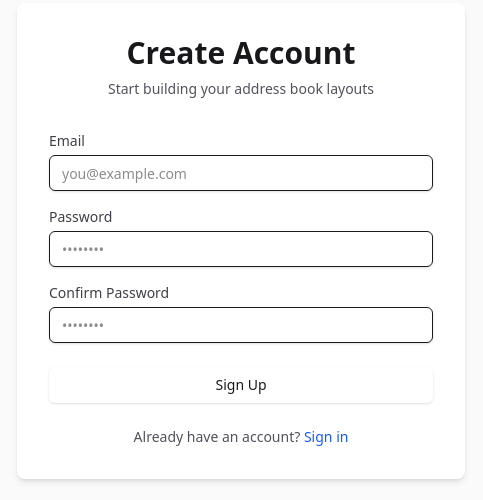
Test: SignupPage › should show loading state during signup
Type "test@example.com" into the field labelled "Email" at (241, 173), box [49,155,433,191]
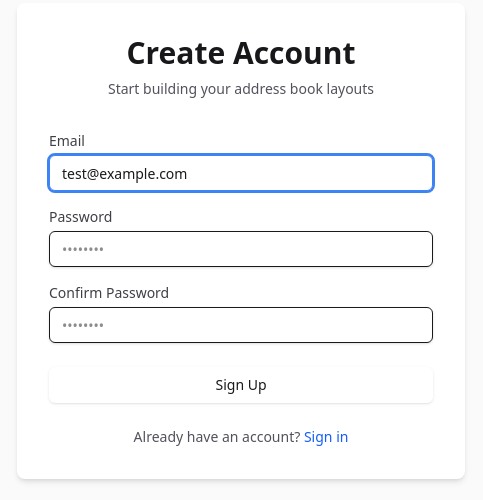
Type "password123" into the password field labelled "Password" at (241, 249), box [49,231,433,267]
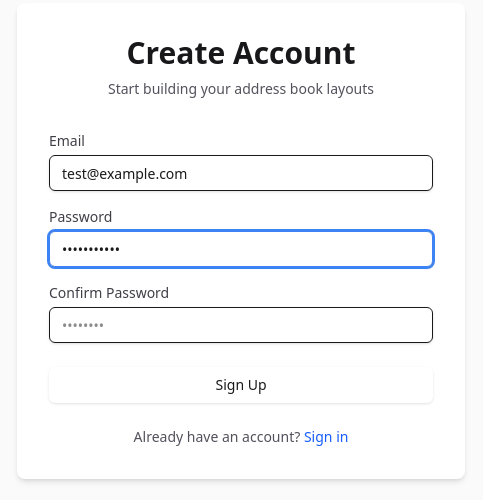
Type "password123" into the password field labelled "Confirm Password" at (241, 325), box [49,307,433,343]
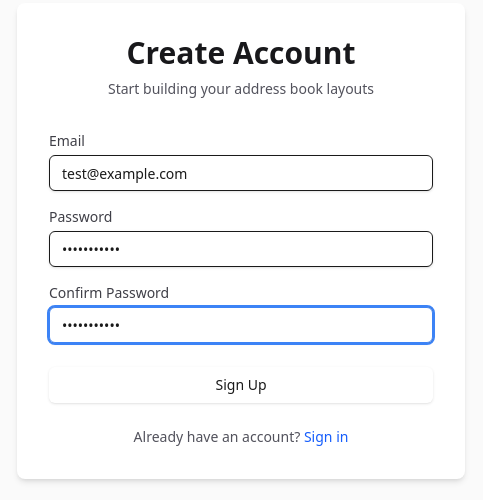
Click the button with aria-label "create your account" at (241, 385), box [49,367,433,403]
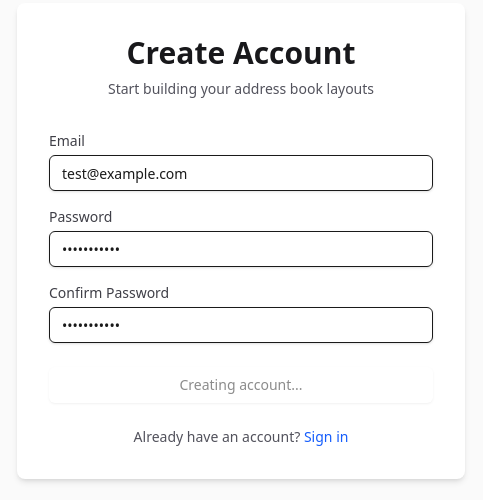
Now the button "Creating account..." is disabled, box [49,367,433,403]
